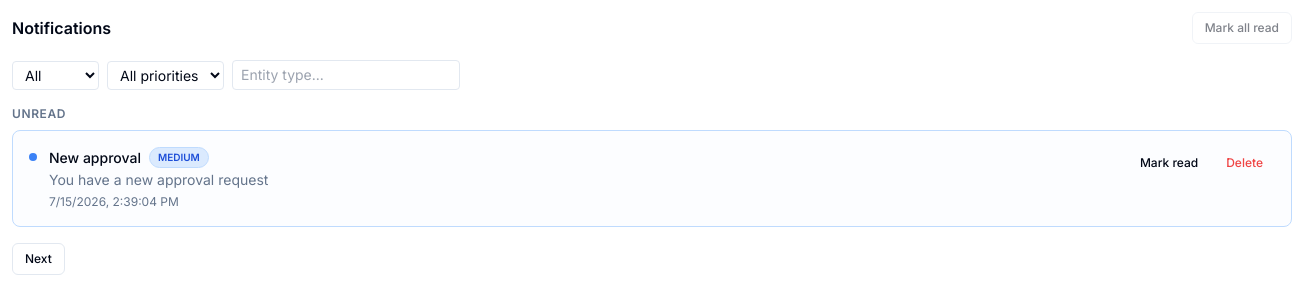
it: NotificationPage › pagination › shows prev button after navigating next
Click the button with test id "notification-list-next-btn": click(38, 259) [12,243,65,275]
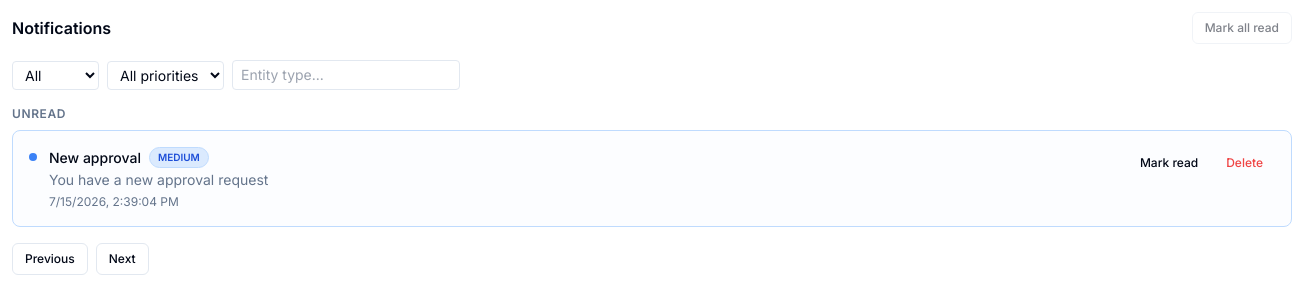
Expected: the button with test id "notification-list-prev-btn" is shown, [12,243,88,275]
